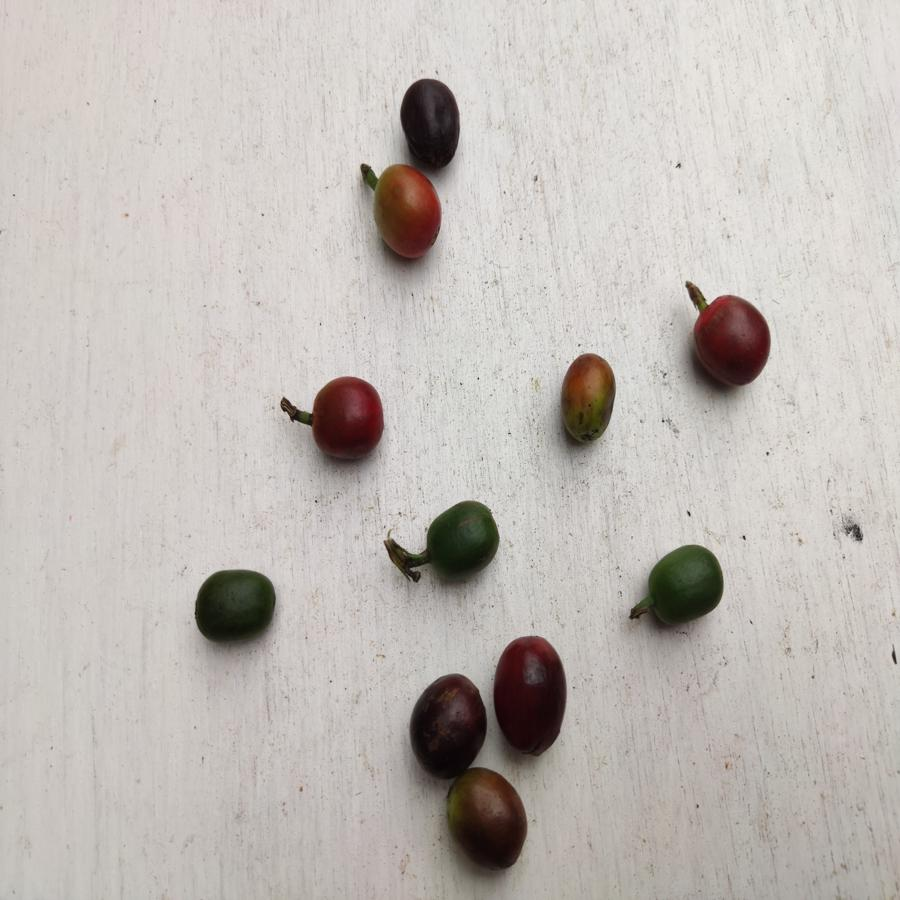Inmaduro: (646, 538, 730, 633), (191, 563, 279, 646), (423, 498, 503, 573)
Maduro: (299, 374, 397, 463), (368, 164, 446, 260)
Pinton: (443, 764, 530, 875), (557, 349, 623, 444)
Sobremaduro: (492, 634, 579, 761), (689, 284, 780, 394), (405, 664, 485, 775), (398, 74, 466, 173)
